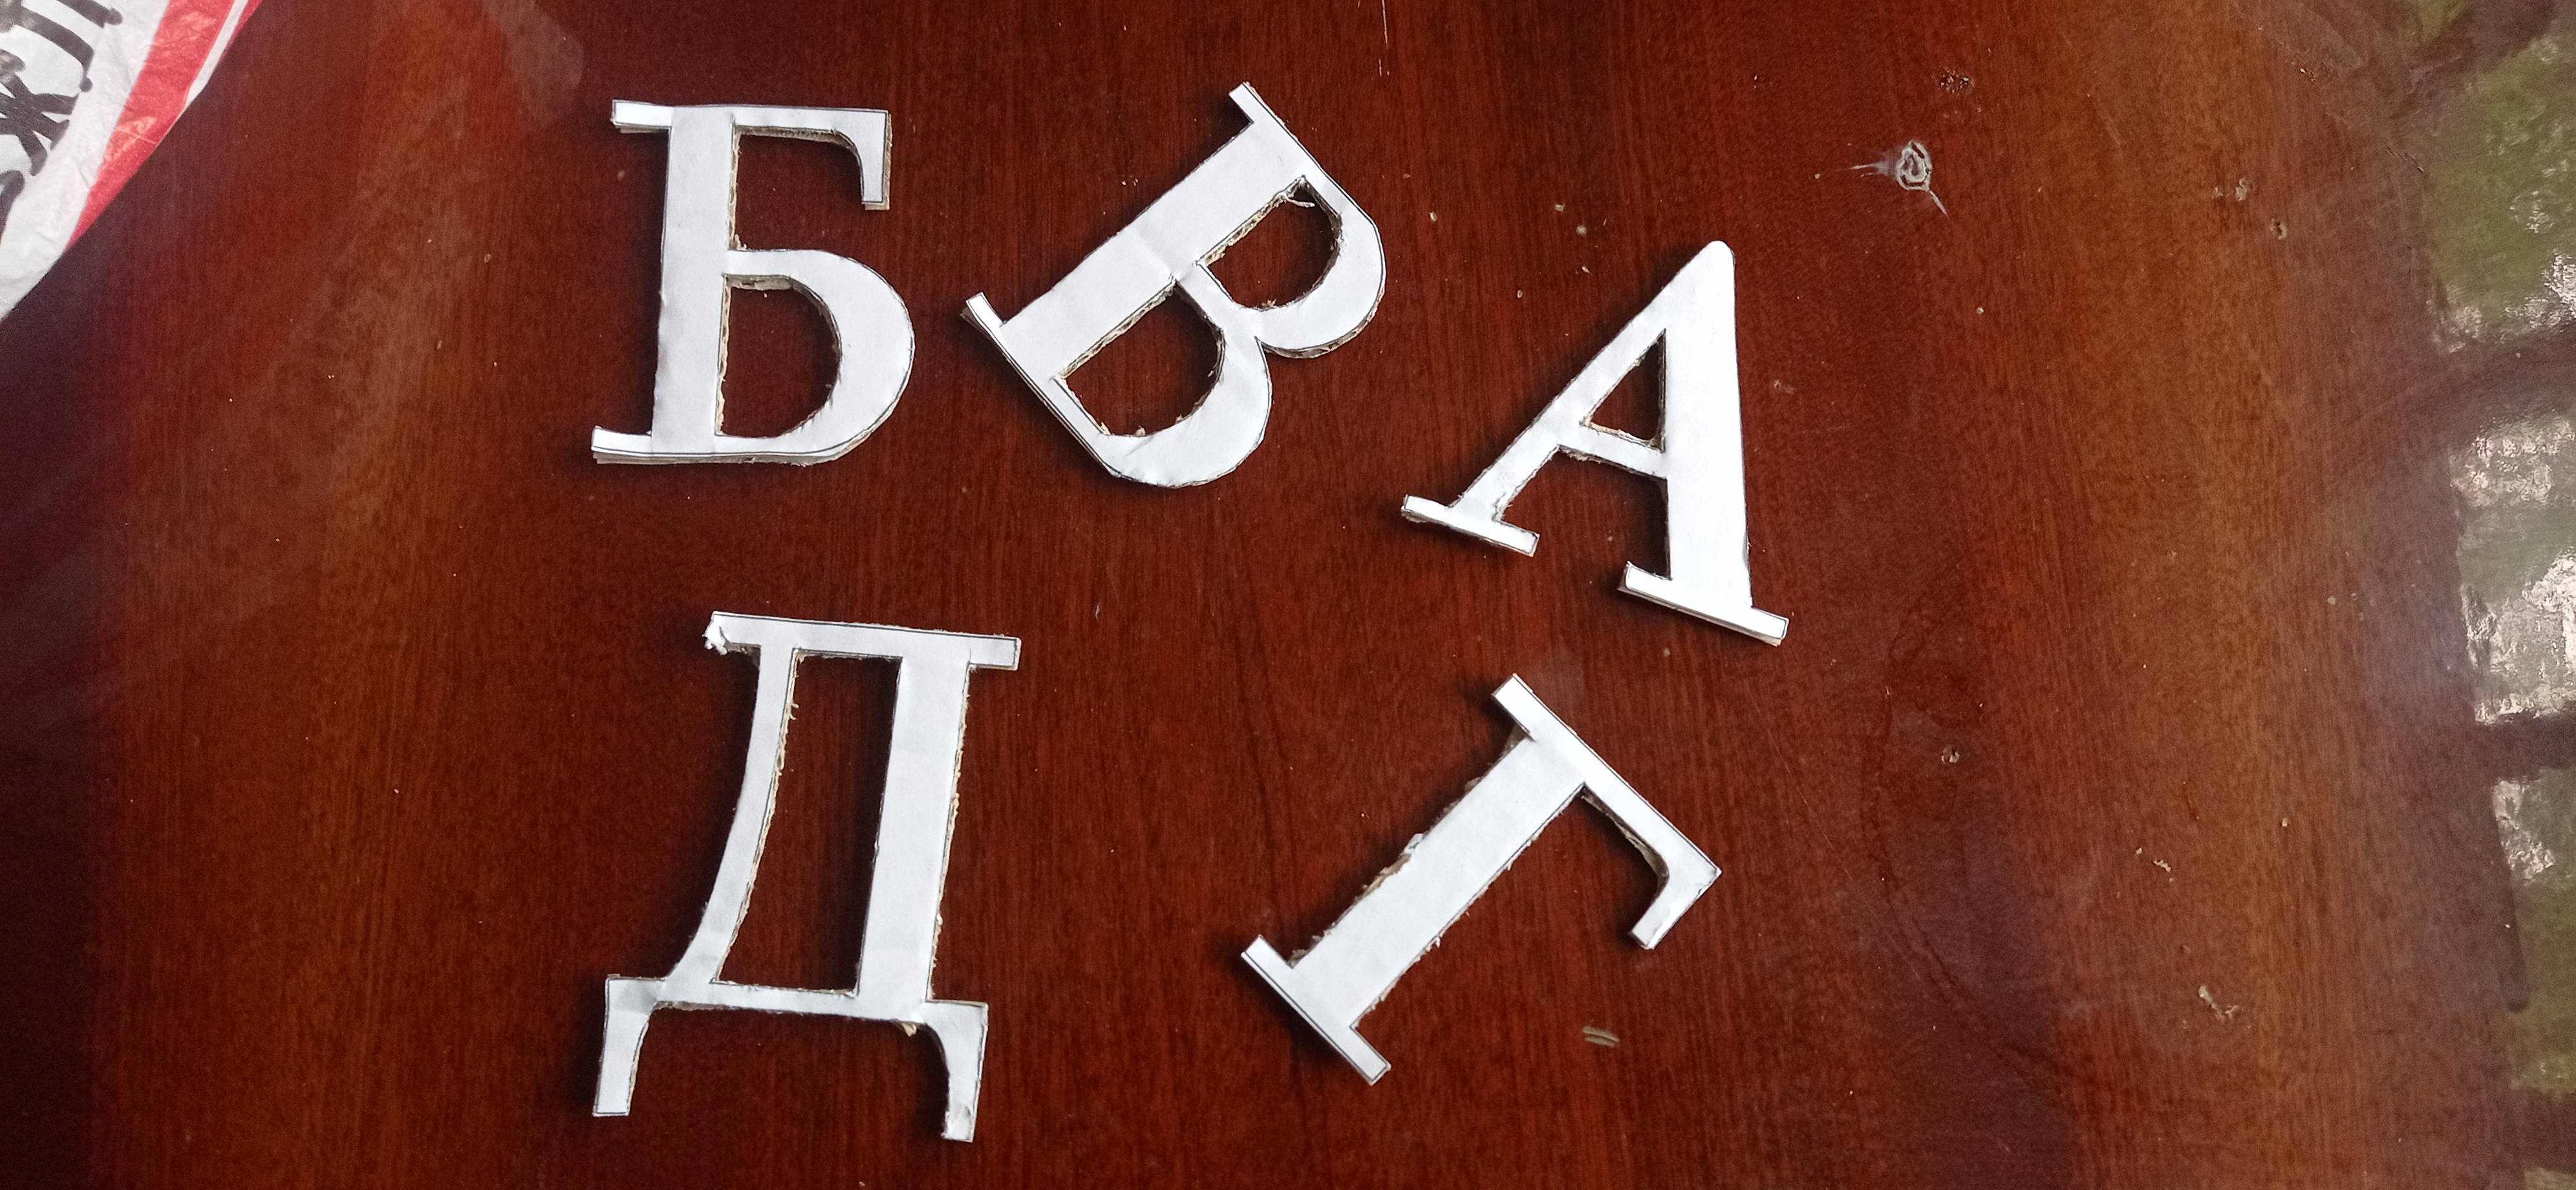a: (1400, 233, 1789, 649)
b: (585, 94, 917, 473)
d: (593, 608, 1027, 1146)
g: (1232, 667, 1725, 1095)
v: (959, 85, 1391, 496)
